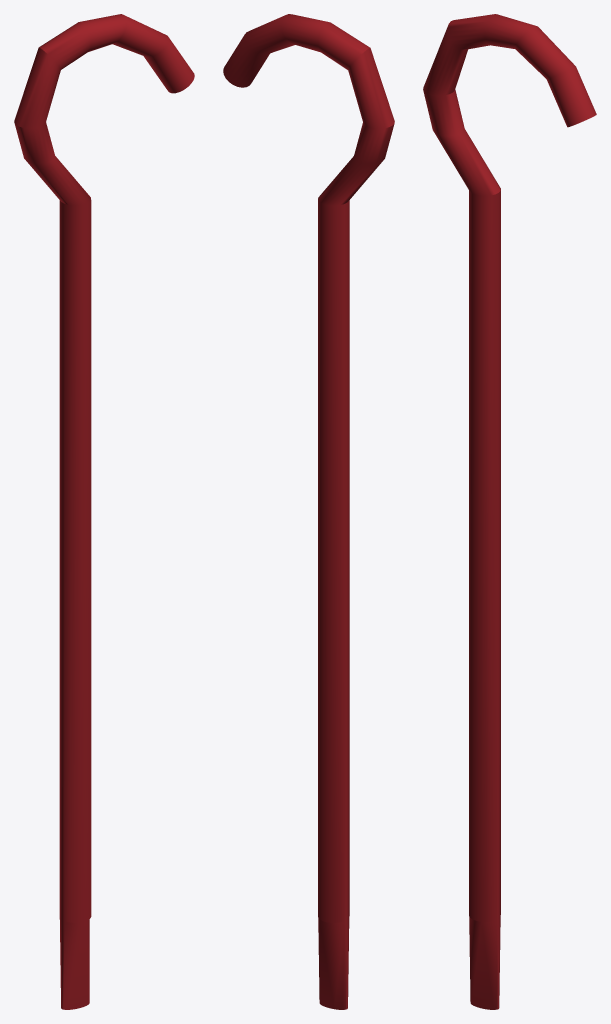
Rendered from spiralJack_hook.fbx.
3 renders of one model, left to right at view 1: azimuth 30°, elevation 25°; view 2: azimuth 150°, elevation 25°; view 3: azimuth 330°, elevation 25°, orthographic.
Visible parts, largest first — view 1: pCylinder4; view 2: pCylinder4; view 3: pCylinder4.
Boxes of the visible parts, x1,y1,x2,y2 form: pCylinder4: (14, 14, 194, 1009); pCylinder4: (223, 14, 394, 1009); pCylinder4: (423, 14, 596, 1009).
Size of the model in its own units: 1.07 by 5.85 by 0.2227.
